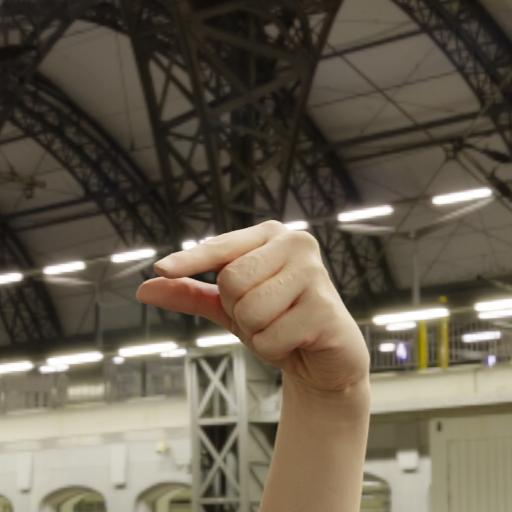G: (109, 189, 433, 512)
